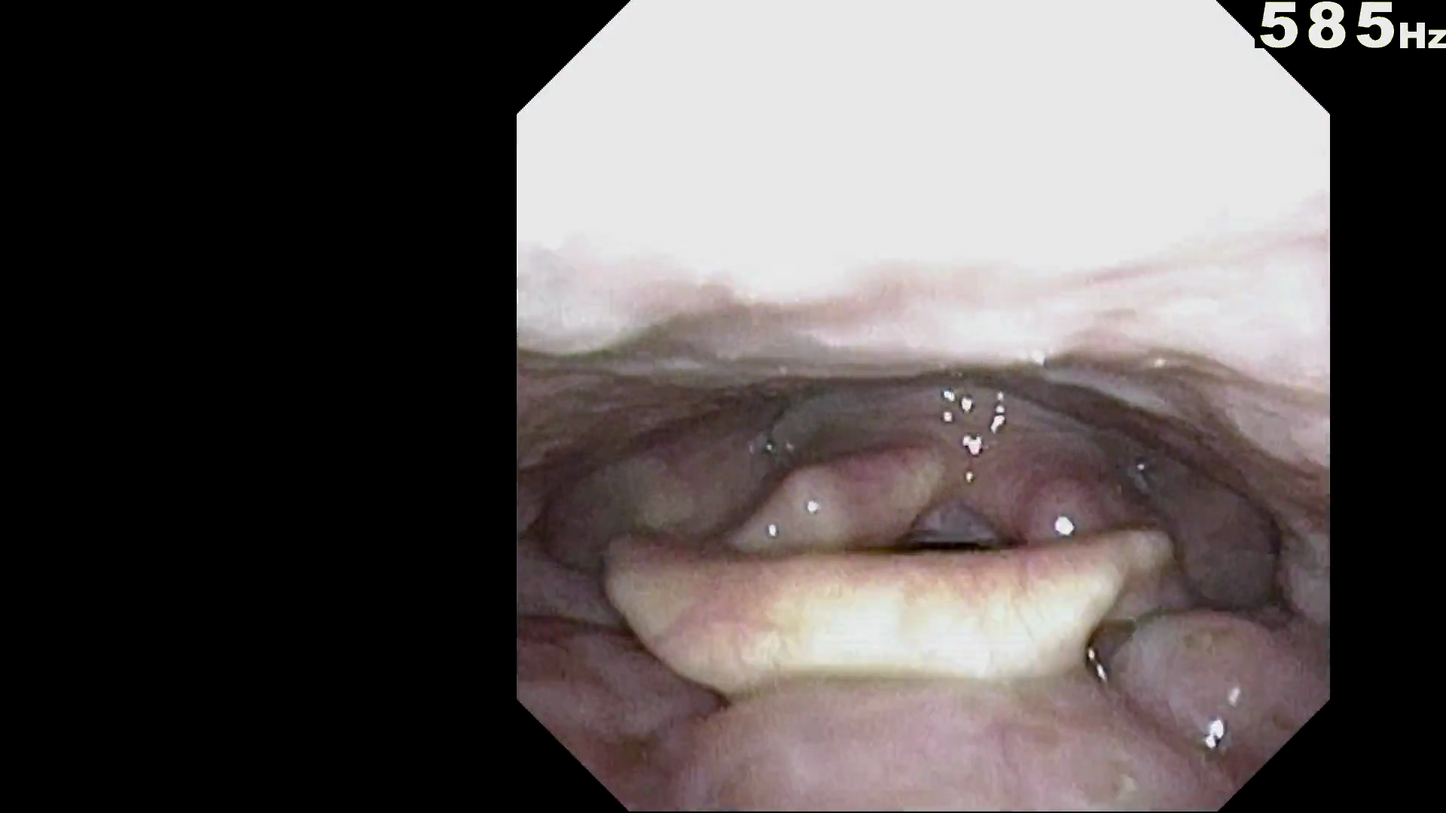epiglottis: (654, 613, 1196, 753)
trachea: (901, 540, 1030, 654)
